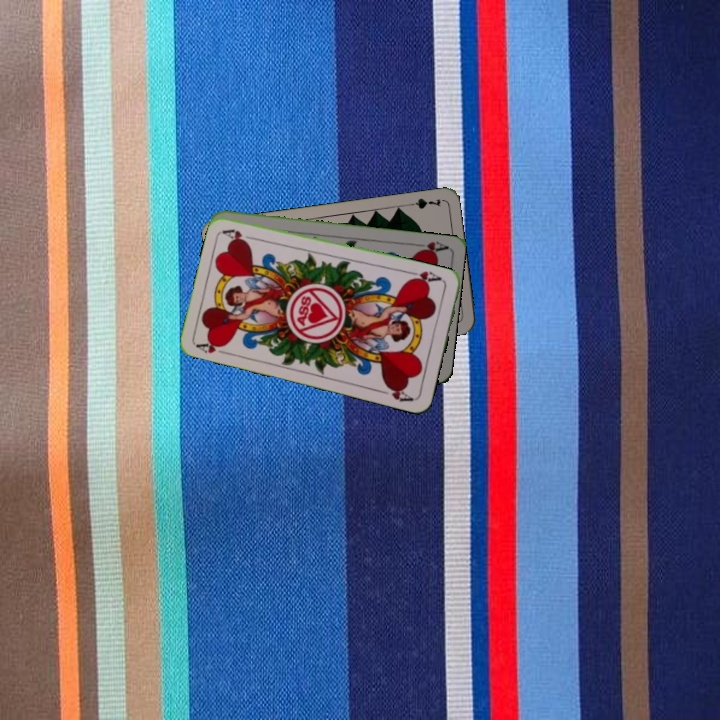G7: (403, 194, 443, 212)
HA: (193, 336, 233, 358), (409, 237, 450, 257), (406, 267, 446, 287)
